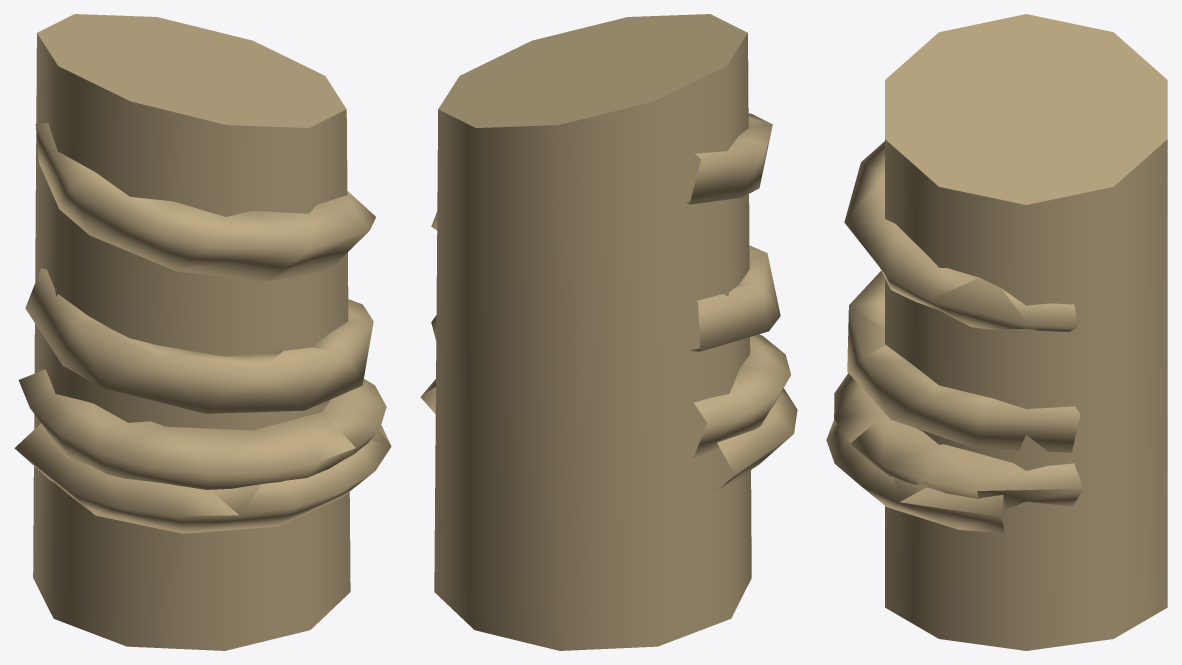
File: bridge_rope_02.fbx
3 views of the same model, side by side, from view 1: azimuth 30°, elevation 25°; view 2: azimuth 150°, elevation 25°; view 3: azimuth 270°, elevation 25° (orthographic). The views are drawn at different scales.
Parts seen in each view (by area): view 1: bridge_rope_02; view 2: bridge_rope_02; view 3: bridge_rope_02.
Part boxes in pixels (x1,y1,x2,y2): bridge_rope_02: [14, 14, 391, 650]; bridge_rope_02: [420, 14, 797, 650]; bridge_rope_02: [826, 14, 1167, 650].
Size of the model in its own units: 30.81 by 50.12 by 30.2.
